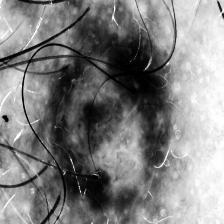Benign Marking or Mole: (43, 37, 161, 212)
